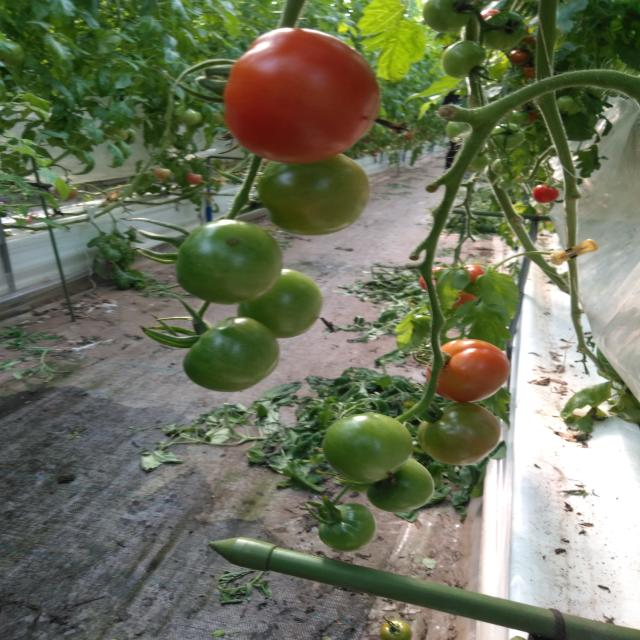c-half-riped: (417, 402, 501, 466), (426, 339, 510, 403), (379, 619, 411, 640)
c-riped: (223, 28, 380, 164), (532, 184, 559, 203)
c-unriped: (175, 220, 283, 305), (258, 154, 370, 235), (182, 316, 280, 392), (321, 413, 413, 483), (236, 269, 324, 340), (366, 457, 436, 513), (318, 503, 377, 552), (481, 11, 527, 50), (442, 41, 486, 79), (422, 0, 472, 33), (491, 124, 525, 150)
